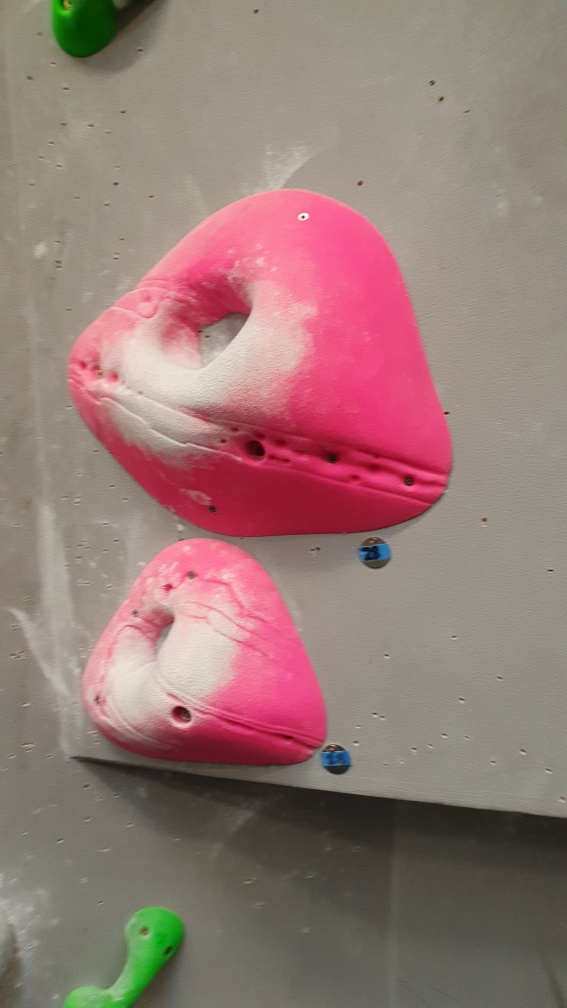Hand Start: (349, 534, 395, 574), (318, 740, 359, 776)
Pocket: (62, 182, 455, 538), (75, 539, 336, 772)
